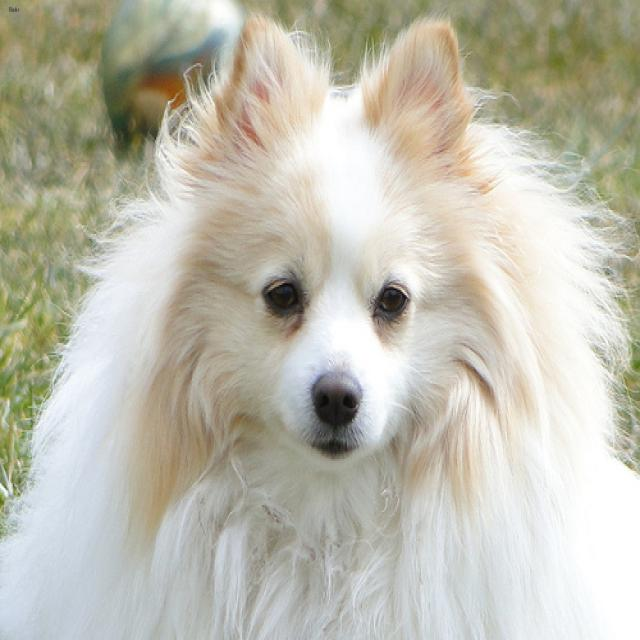dog-pomeranian: (1, 2, 637, 637)
